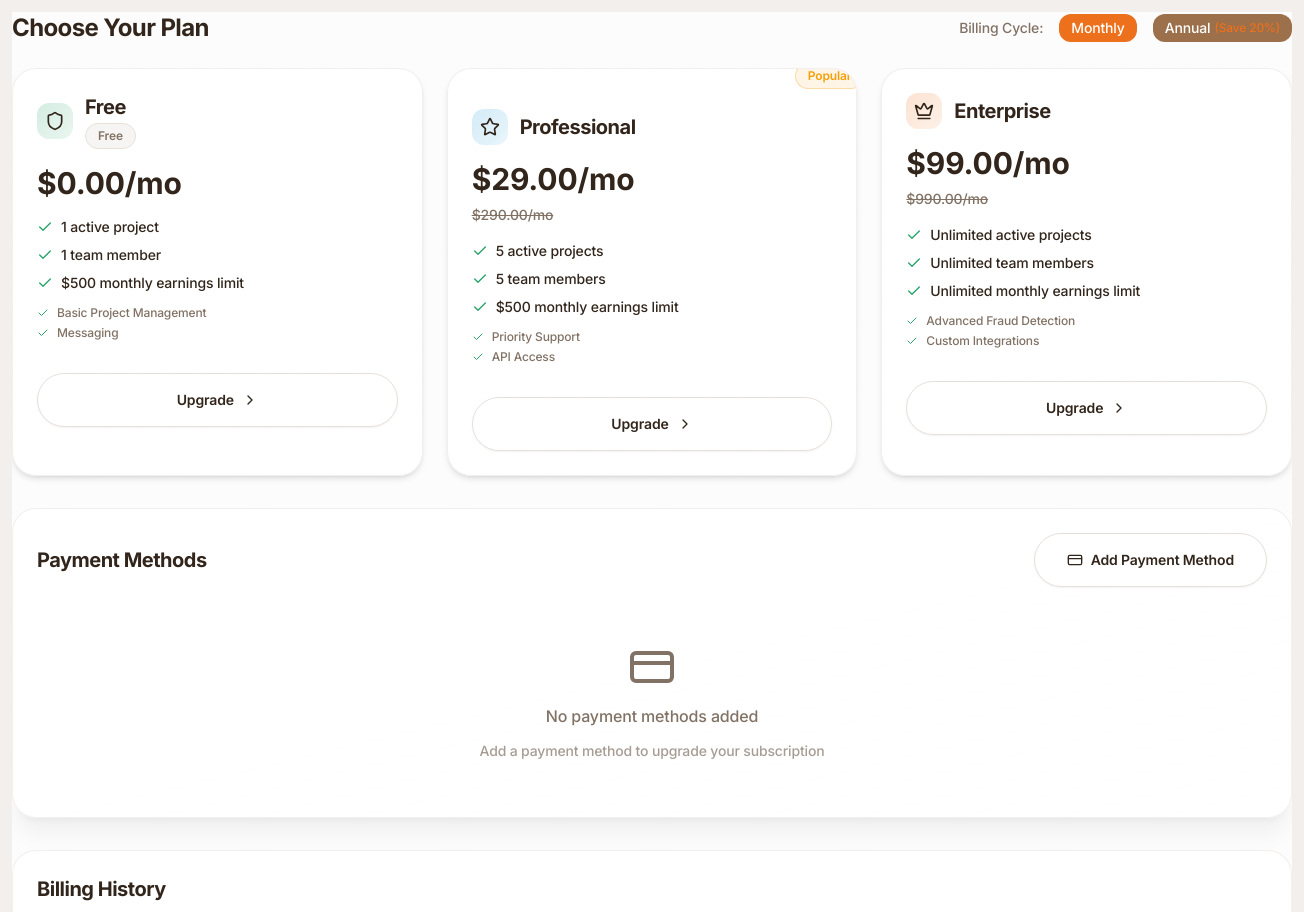
Test: SubscriptionDashboard - Integration Tests › Billing Cycle Toggle › BUG-SD-008: FOUND BUG - Uses wrong price for annual calculation
This screenshot has width=1304, height=912.
Expected: the text "$29.00/mo" is shown, [472, 161, 634, 197]
// Switch to Annual
Click the button "Annual (Save 20%)" at (1222, 28), box [1153, 14, 1292, 42]
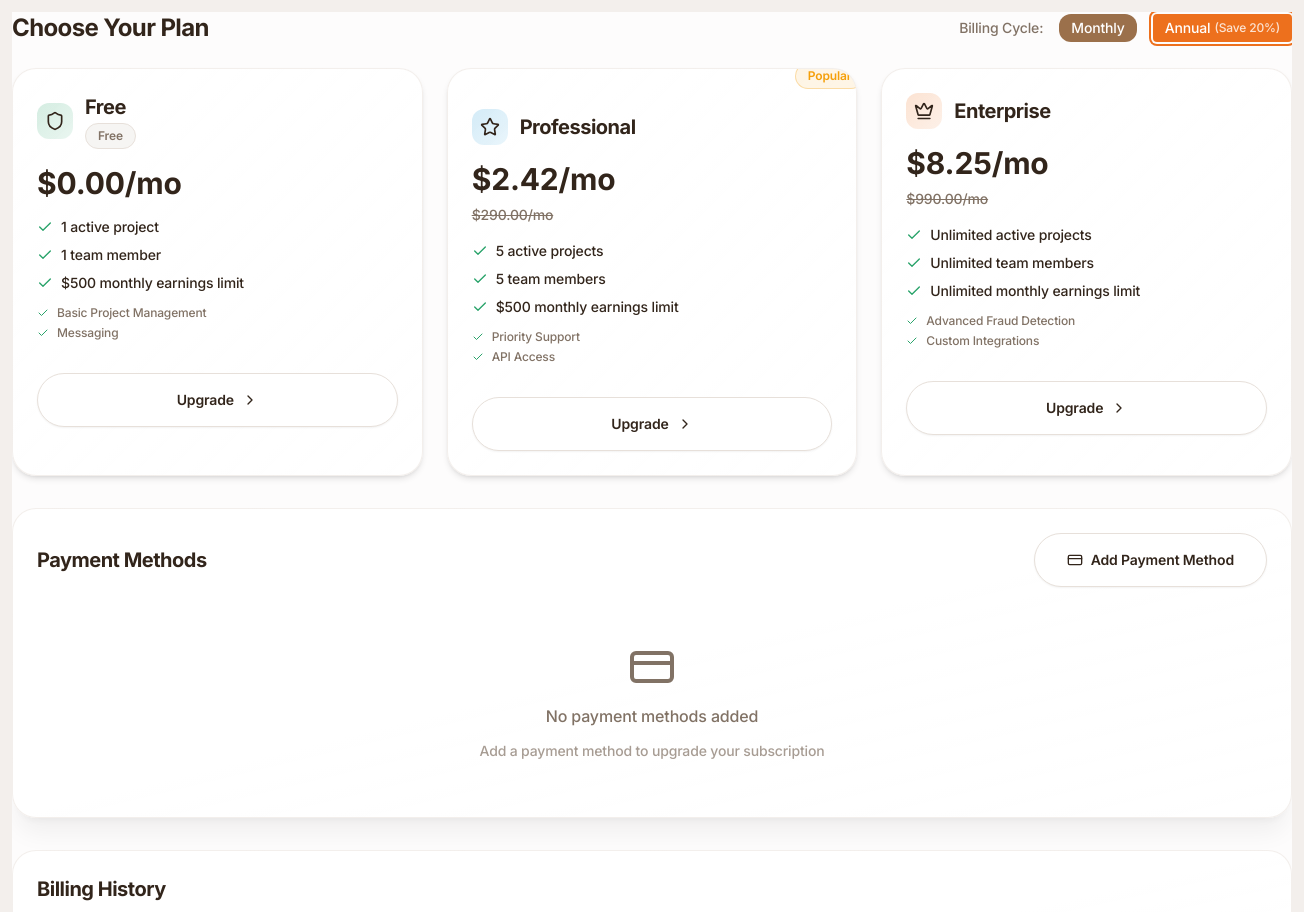
Expected: the text "$2.42/mo" is shown, [472, 161, 616, 197]
